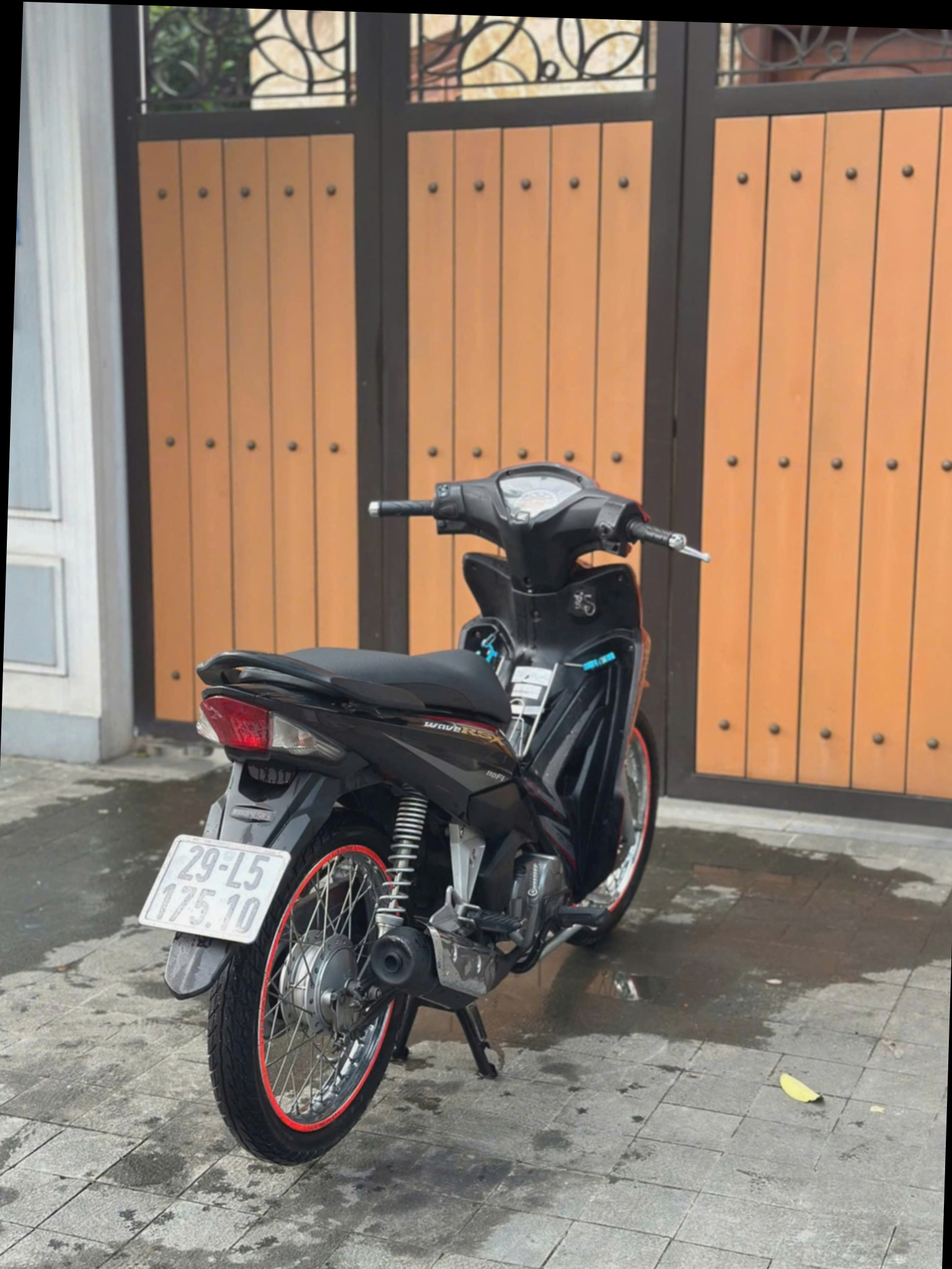Bien-so: (169, 824, 320, 947)
